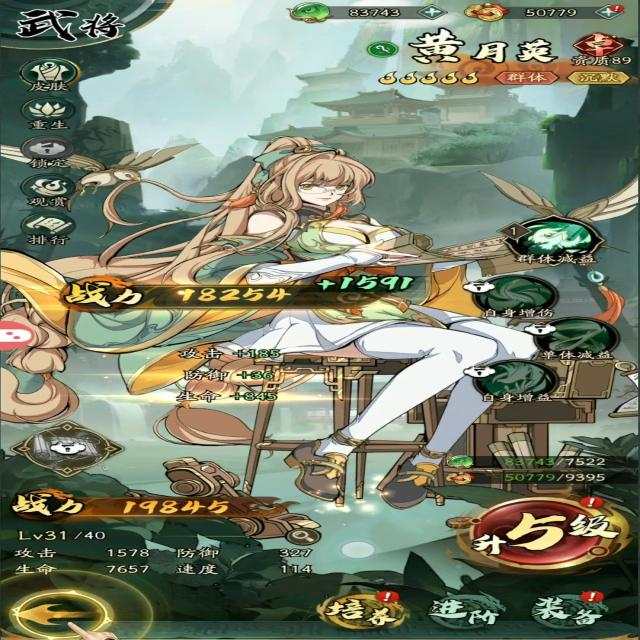hint-guide: (12, 590, 105, 635)
hint-reddot: (571, 490, 610, 511), (581, 588, 610, 604), (381, 586, 399, 606), (607, 5, 625, 13)
operation-HeroAttribute: (284, 522, 336, 550)
operation-HeroLock: (14, 137, 94, 168)
operation-HeroSkin: (13, 55, 98, 94)
operation-advanced: (422, 587, 503, 631)
operation-back: (3, 599, 98, 629)
operation-equipment: (524, 589, 624, 629)
operation-heroRank: (12, 214, 89, 248)
operation-heroRespawn: (19, 97, 84, 129)
operation-levelUp: (458, 491, 624, 580)
operation-train: (316, 584, 407, 634)
operation-watchHero: (18, 173, 78, 206)
skill-multi1-off: (444, 359, 578, 412)
skill-multi2-off: (514, 311, 626, 363)
skill-multi3-off: (454, 274, 572, 325)
skill-multi4-on: (492, 209, 600, 270)
skill-shenbing-off: (13, 418, 137, 479)
